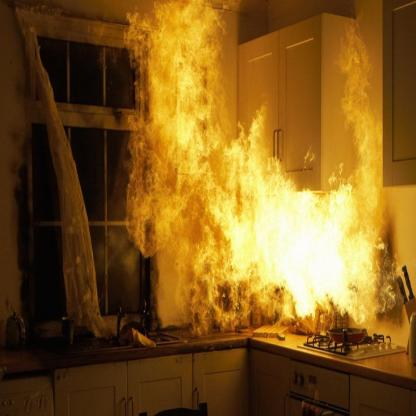fire: (135, 0, 396, 330)
